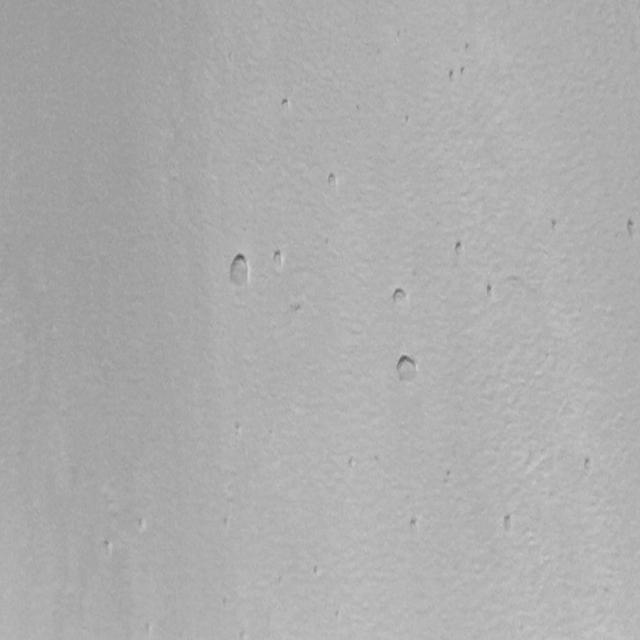pin holes: (224, 254, 255, 293), (392, 353, 422, 388), (387, 284, 410, 313), (269, 248, 289, 273), (496, 513, 516, 537), (449, 238, 467, 263), (100, 536, 118, 560), (579, 454, 598, 476), (438, 465, 454, 490), (324, 170, 342, 192), (624, 218, 639, 241), (482, 283, 499, 303), (407, 516, 423, 536), (345, 452, 357, 477), (230, 413, 243, 436), (134, 514, 149, 533), (445, 65, 459, 84), (278, 96, 293, 113), (458, 63, 473, 80), (310, 564, 324, 581), (140, 621, 154, 638), (292, 302, 304, 319), (462, 42, 476, 56), (548, 218, 560, 234), (236, 628, 250, 640)
